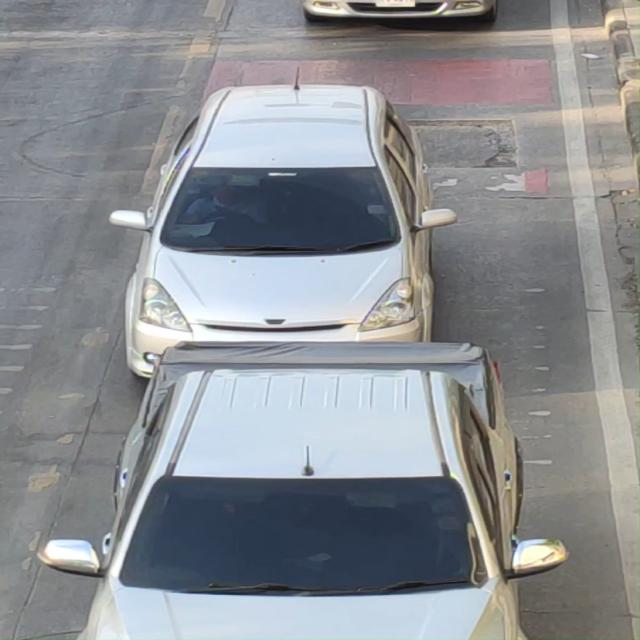car: (82, 336, 562, 640), (108, 75, 476, 369)
